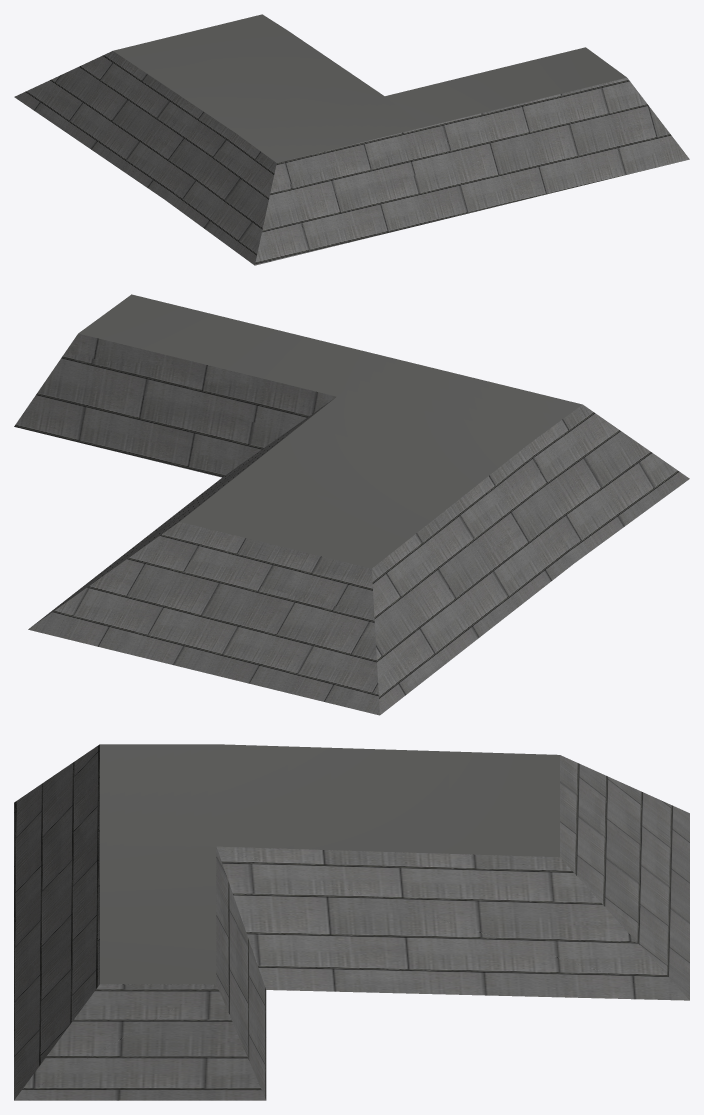
Rendered from Roof_Flat_CLG.fbx.
The picture shows the model from 3 angles, top to bottom: view 1: azimuth 30°, elevation 25°; view 2: azimuth 150°, elevation 25°; view 3: azimuth 270°, elevation 25°; orthographic projection. The views are drawn at different scales.
Visible parts, largest first — view 1: pCube5; view 2: pCube5; view 3: pCube5.
Part boxes in pixels (x1=…): pCube5: x1=14, y1=14, x2=689, y2=265; pCube5: x1=14, y1=294, x2=689, y2=715; pCube5: x1=14, y1=744, x2=689, y2=1100.
Bounding box in the file's own units: 64.69 × 10.64 × 62.01.
